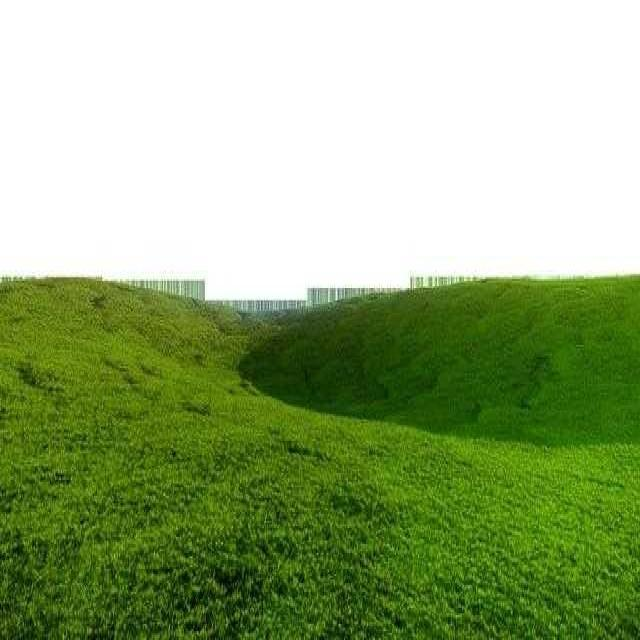lawn: (0, 279, 640, 640)
